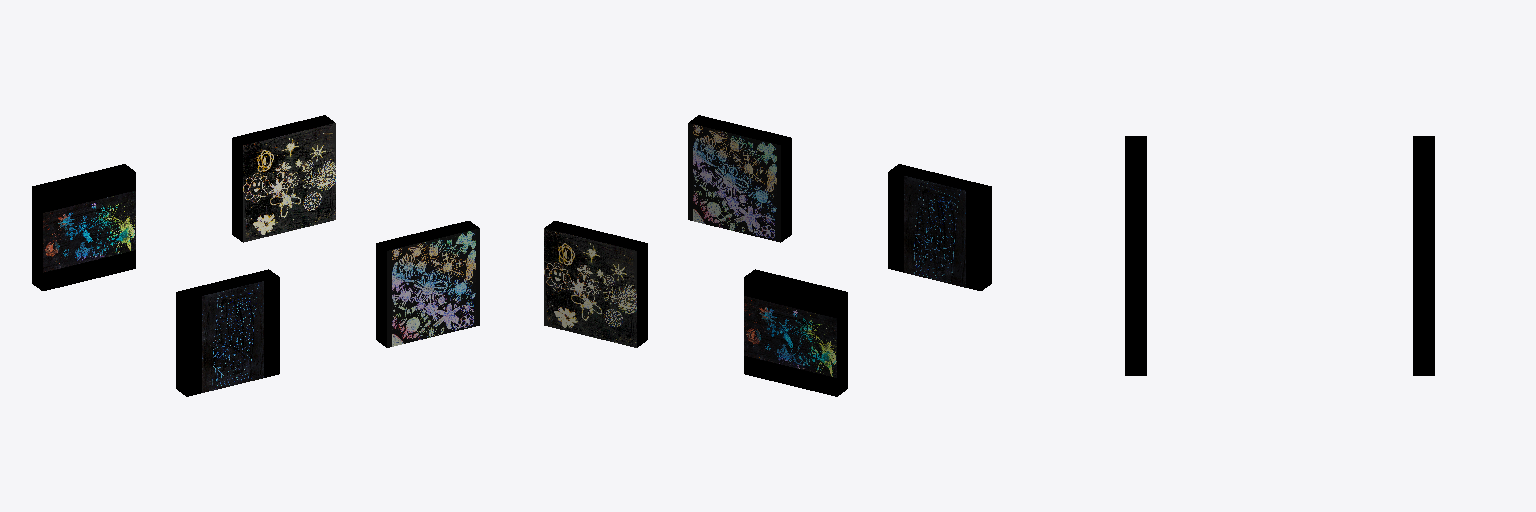
3 views of the same model, side by side, from view 1: azimuth 30°, elevation 25°; view 2: azimuth 150°, elevation 25°; view 3: azimuth 270°, elevation 25° (orthographic).
Visible parts, largest first — view 1: Cube_0, Cube_1, Cube_5, Cube_6; view 2: Cube_0, Cube_1, Cube_5, Cube_6; view 3: Cube_1, Cube_6, Cube_0, Cube_5.
Part boxes in pixels (x1,y1,x2,y2): Cube_0: (176,269,279,396); Cube_1: (376,221,479,347); Cube_5: (32,164,135,290); Cube_6: (232,115,335,242); Cube_0: (888,164,991,290); Cube_1: (688,115,791,242); Cube_5: (744,269,847,396); Cube_6: (544,221,647,347); Cube_1: (1125,234,1146,375); Cube_6: (1413,234,1434,375); Cube_0: (1125,136,1146,233); Cube_5: (1413,136,1434,233).
Size of the model in its own units: 631 by 200 by 577.
Materials: 5 (4 with a texture image).